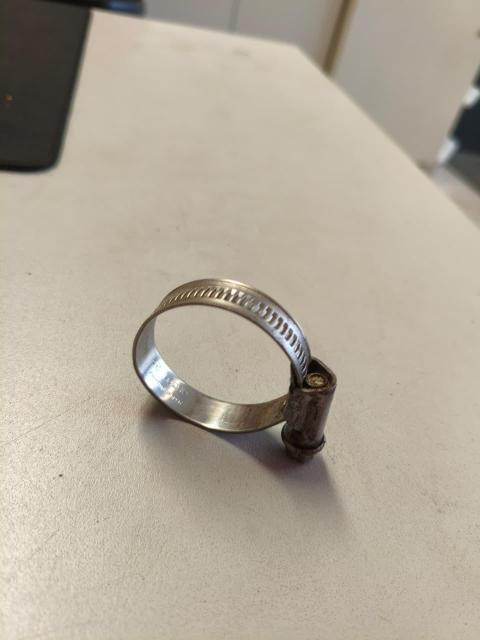Metal: (135, 277, 335, 458)
